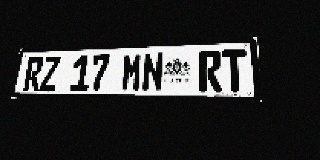1: (70, 55, 92, 91)
7: (88, 54, 110, 91)
M: (121, 53, 143, 91)
N: (142, 52, 164, 92)
R: (199, 50, 222, 92), (23, 57, 44, 91)
T: (222, 49, 248, 92)
Z: (40, 56, 61, 91)
